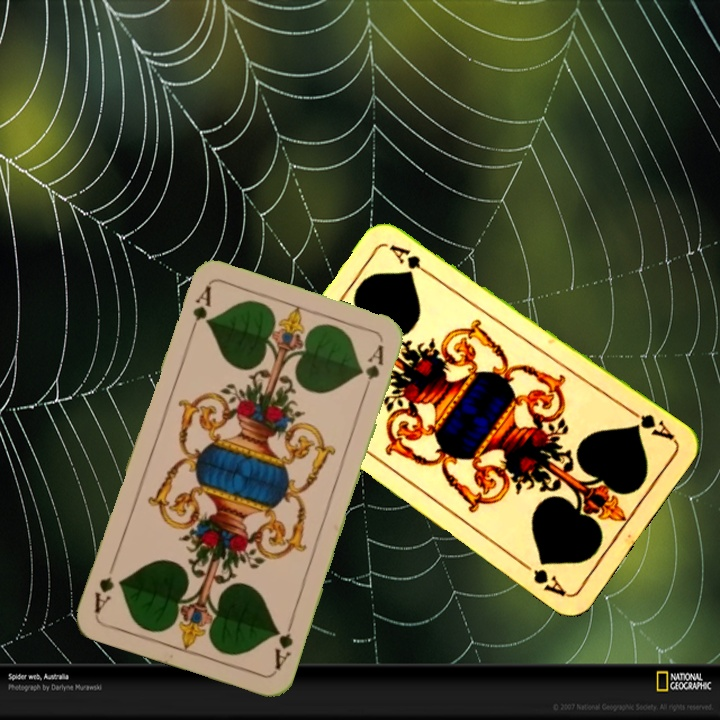GA: (624, 404, 677, 443), (185, 282, 214, 340), (270, 615, 297, 672)
